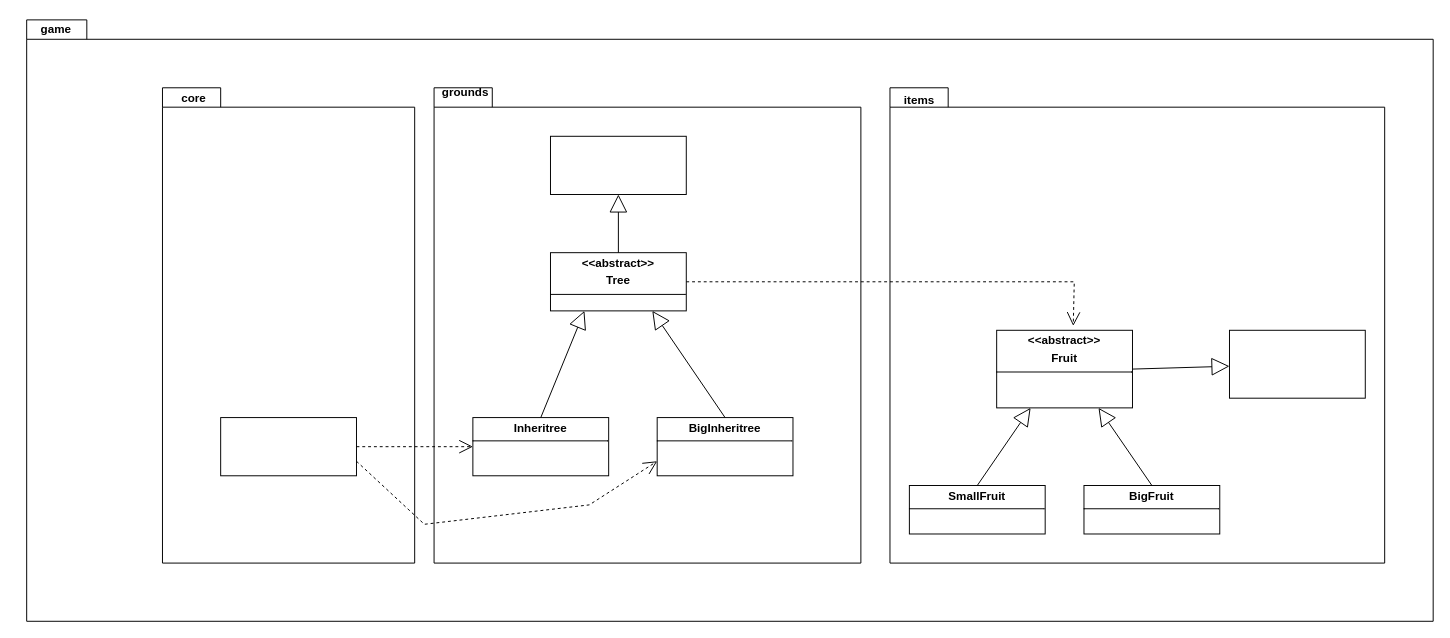
This 1450x638 diagram has some shape labels left out. The shapes that lost their labels are listed below. From the top down, each one's centre as x and y in pixels, then its label:
At point 618,164: "<<abstract>> Ground".
At point 1297,363: "<<abstract>> Item".
At point 288,446: "Application".
